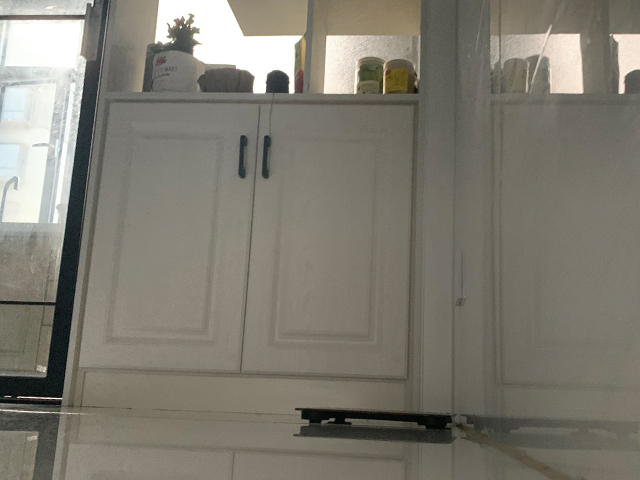cabinet: (60, 93, 435, 412)
